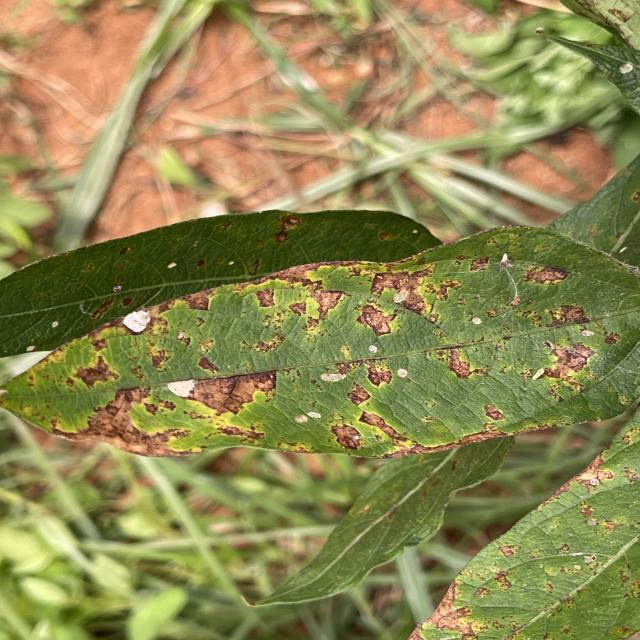Black gram_leaf spot: (0, 229, 640, 462), (3, 207, 448, 351), (411, 421, 640, 640)
